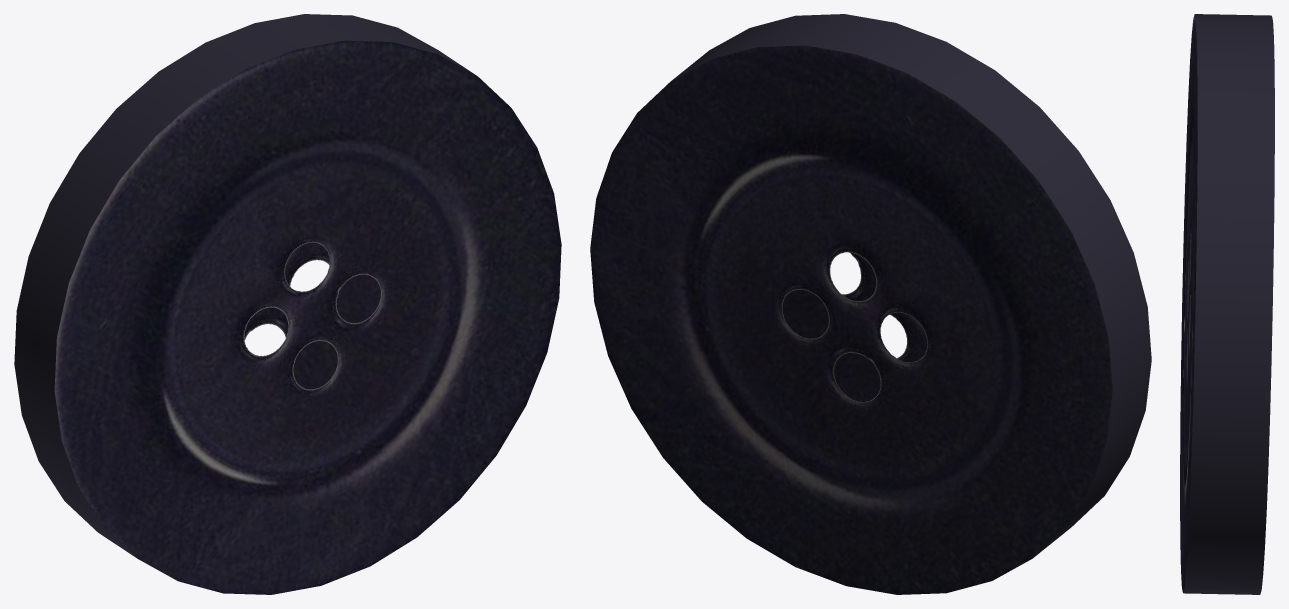
File: menjinkouzi.FBX
The picture shows the model from 3 angles, left to right: view 1: azimuth 30°, elevation 25°; view 2: azimuth 150°, elevation 25°; view 3: azimuth 270°, elevation 25°; orthographic projection. The views are drawn at different scales.
Parts seen in each view (by area): view 1: Object005; view 2: Object005; view 3: Object005.
Boxes of the visible parts, x1,y1,x2,y2 form: Object005: [14, 14, 561, 594]; Object005: [590, 14, 1151, 594]; Object005: [1180, 14, 1274, 594].
Bounding box in the file's own units: 1.52 × 1.52 × 0.2481.
